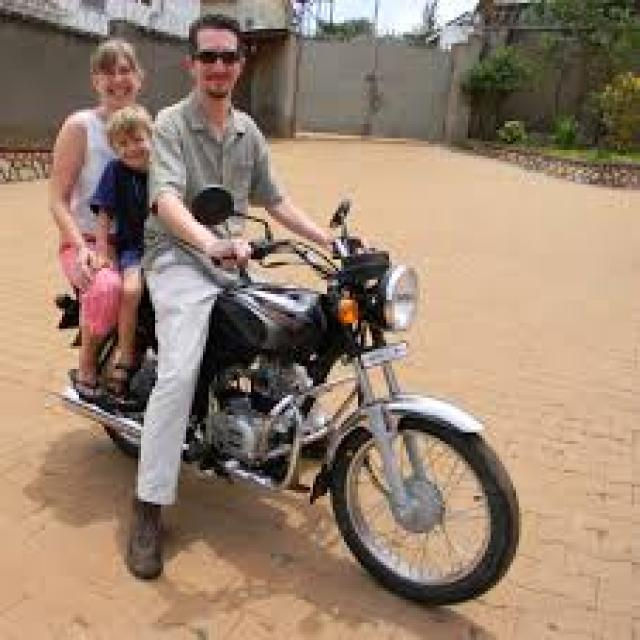bodaboda: (25, 127, 544, 628)
